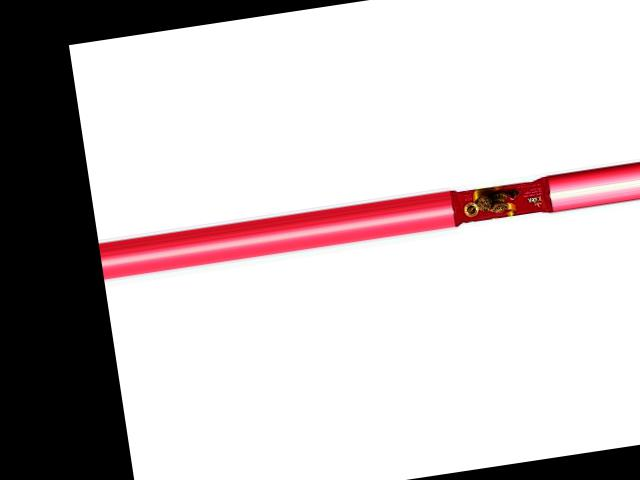chocolate: (451, 172, 554, 225)
